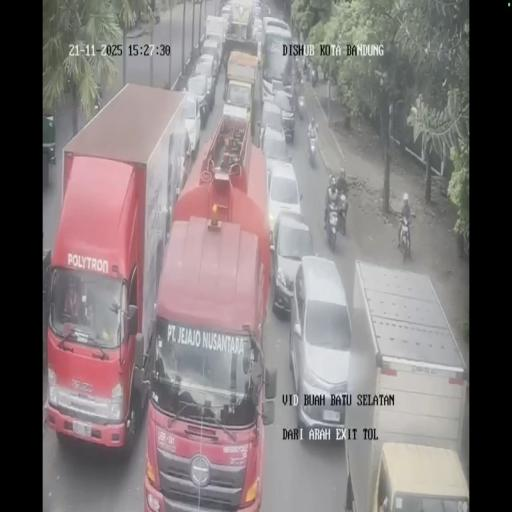car: (289, 257, 351, 438), (271, 208, 313, 316), (260, 99, 286, 147), (200, 37, 222, 81), (251, 16, 264, 49)
motorcycle: (397, 216, 413, 262), (326, 202, 341, 250), (308, 134, 318, 167), (296, 92, 304, 120), (294, 64, 302, 88), (311, 68, 317, 88)
truck: (45, 84, 195, 454), (337, 262, 468, 510), (262, 17, 293, 90)
